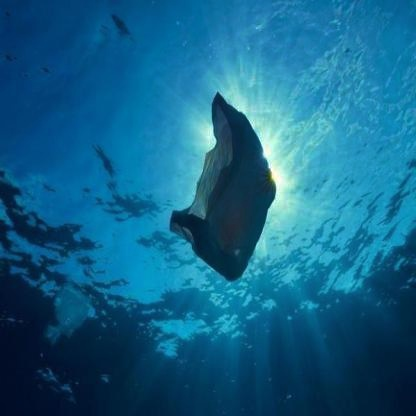pbag: (164, 84, 280, 284)
